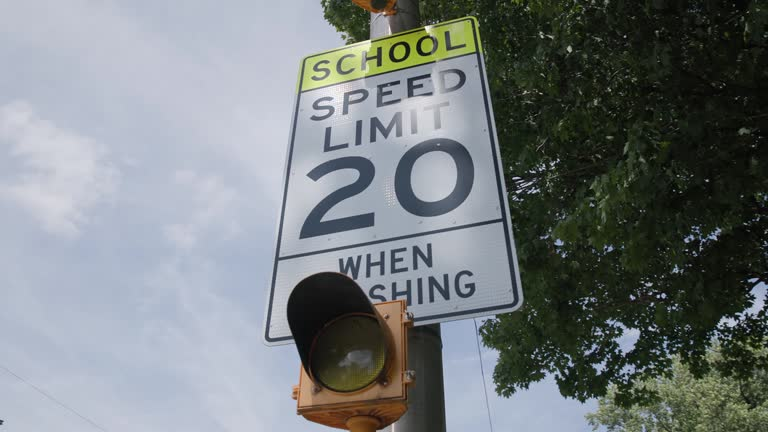SpeedLimitSign: (273, 51, 504, 258)
